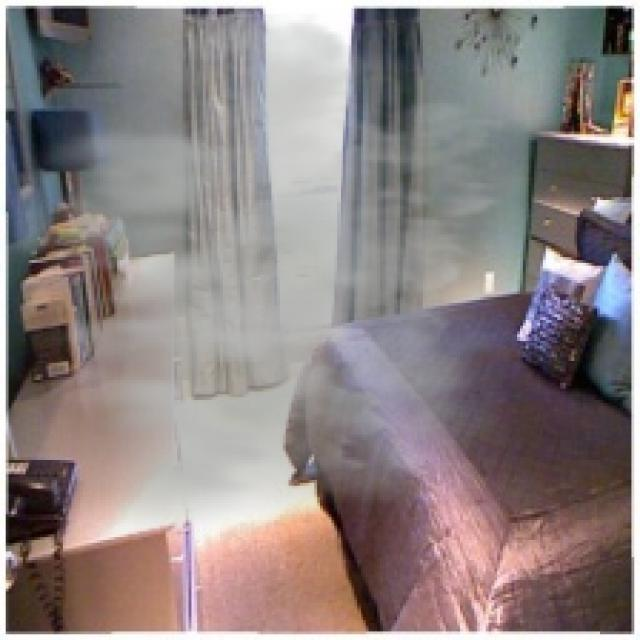Smoke: (14, 14, 560, 549)
